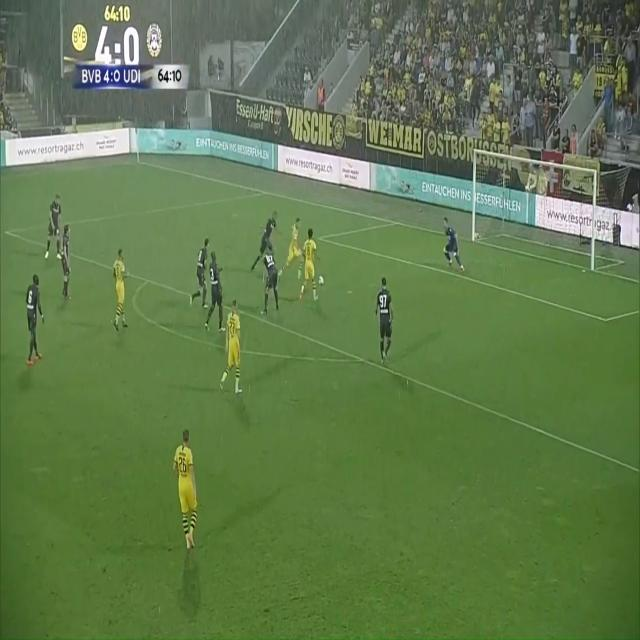ball: (317, 269, 326, 287)
goalkeeper: (438, 204, 466, 281)
player: (169, 426, 199, 552), (223, 293, 247, 400), (375, 268, 398, 374), (26, 272, 47, 380), (253, 210, 281, 290), (112, 244, 134, 344), (207, 254, 228, 332), (191, 237, 212, 314), (285, 218, 306, 287), (58, 225, 76, 302), (301, 230, 321, 299), (48, 197, 66, 272), (264, 247, 284, 312)
